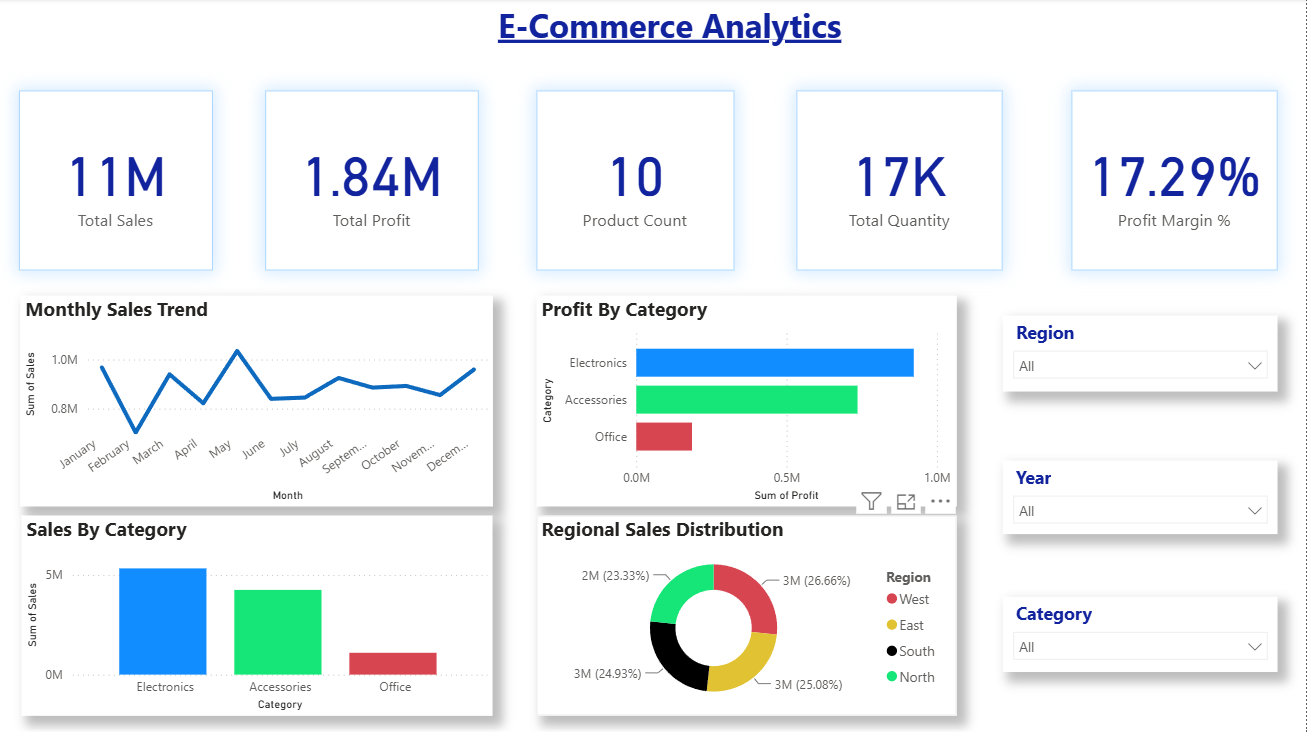

The page's visual inventory and layout, read from the dashboard file:
{"tool":"powerbi","page":{"name":"E-Commerce Analytics","canvas":[1280,720],"ordinal":0},"visuals":[{"type":"card","fields":{"Values":["ecommerce_sales_cleaned.Total Sales"]},"box":[19.6,90.5,189.5,176.1],"z":0},{"type":"card","fields":{"Values":["ecommerce_sales_cleaned.Total Profit"]},"box":[260.5,90.5,209.1,176.1],"z":1000},{"type":"card","fields":{"Values":["ecommerce_sales_cleaned.Total Quantity"]},"box":[780.2,90.5,201.8,176.1],"z":2000},{"type":"card","fields":{"Values":["ecommerce_sales_cleaned.Profit Margin %"]},"box":[1049.2,90.5,201.8,176.1],"z":3000},{"type":"textbox","box":[403.5,0,505,56.3],"z":4000},{"type":"card","fields":{"Values":["ecommerce_sales_cleaned.Product Count"]},"box":[525.8,90.5,193.2,176.1],"z":5000},{"type":"lineChart","title":"Monthly Sales Trend","fields":{"Category":["ecommerce_sales_cleaned.Order_Date.Variation.Date Hierarchy.Month"],"Y":["Sum(ecommerce_sales_cleaned.Sales)"]},"box":[20.8,291,462.2,206.7],"z":6000},{"type":"clusteredColumnChart","title":"Sales By Category","fields":{"Category":["ecommerce_sales_cleaned.Category"],"Y":["Sum(ecommerce_sales_cleaned.Sales)"]},"box":[22,506.3,461,195.7],"z":7000},{"type":"barChart","title":"Profit By Category","fields":{"Category":["ecommerce_sales_cleaned.Category"],"Y":["Sum(ecommerce_sales_cleaned.Profit)"]},"box":[525.8,291,410.9,206.7],"z":8000},{"type":"donutChart","title":"Regional Sales Distribution","fields":{"Category":["ecommerce_sales_cleaned.Region"],"Y":["Sum(ecommerce_sales_cleaned.Sales)"]},"box":[525.8,506.3,410.9,195.7],"z":9000},{"type":"slicer","fields":{"Values":["ecommerce_sales_cleaned.Region"]},"box":[981.9,310.6,269,74.6],"z":10000},{"type":"slicer","fields":{"Values":["ecommerce_sales_cleaned.Year"]},"box":[981.9,452.4,269,72.1],"z":11000},{"type":"slicer","fields":{"Values":["ecommerce_sales_cleaned.Category"]},"box":[981.9,585.7,269,73.4],"z":12000}]}

Visuals, with their boxes in screenshot pixels (x1, y1, x2, y2), scaled from the page's 1280x720 canvas onto the 1307x732 screenshot:
card - ecommerce_sales_cleaned.Total Sales: box=[20, 92, 214, 271]
card - ecommerce_sales_cleaned.Total Profit: box=[266, 92, 480, 271]
card - ecommerce_sales_cleaned.Total Quantity: box=[797, 92, 1003, 271]
card - ecommerce_sales_cleaned.Profit Margin %: box=[1071, 92, 1277, 271]
textbox: box=[412, 0, 928, 57]
card - ecommerce_sales_cleaned.Product Count: box=[537, 92, 734, 271]
"Monthly Sales Trend" lineChart: box=[21, 296, 493, 506]
"Sales By Category" clusteredColumnChart: box=[22, 515, 493, 714]
"Profit By Category" barChart: box=[537, 296, 956, 506]
"Regional Sales Distribution" donutChart: box=[537, 515, 956, 714]
slicer - ecommerce_sales_cleaned.Region: box=[1003, 316, 1277, 392]
slicer - ecommerce_sales_cleaned.Year: box=[1003, 460, 1277, 533]
slicer - ecommerce_sales_cleaned.Category: box=[1003, 595, 1277, 670]
